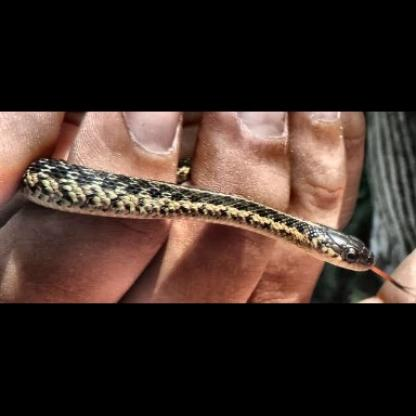Snake: (16, 158, 384, 277), (279, 206, 375, 274)
